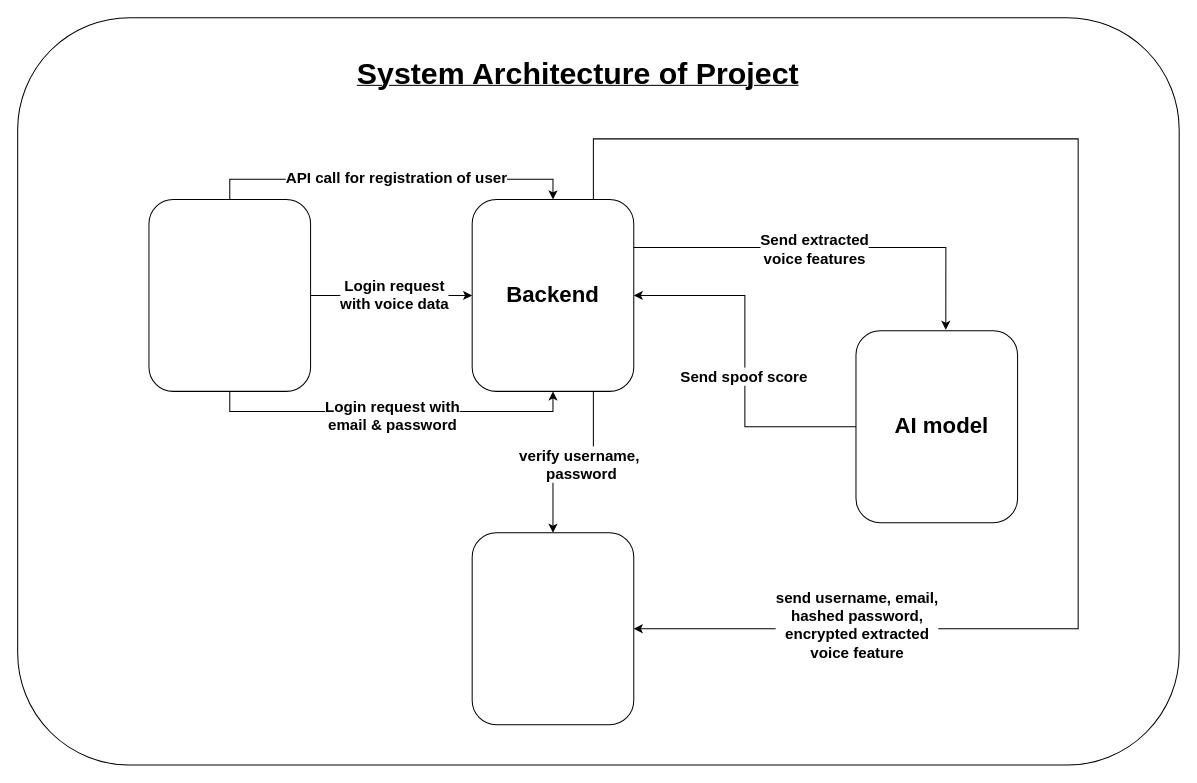
Some shapes in this 1197 by 783 pixel diagram are drawn without their labels. The centre of each missing label's shape, as x and y in pixels:
Database: (552,628)
Frontend: (229,294)
